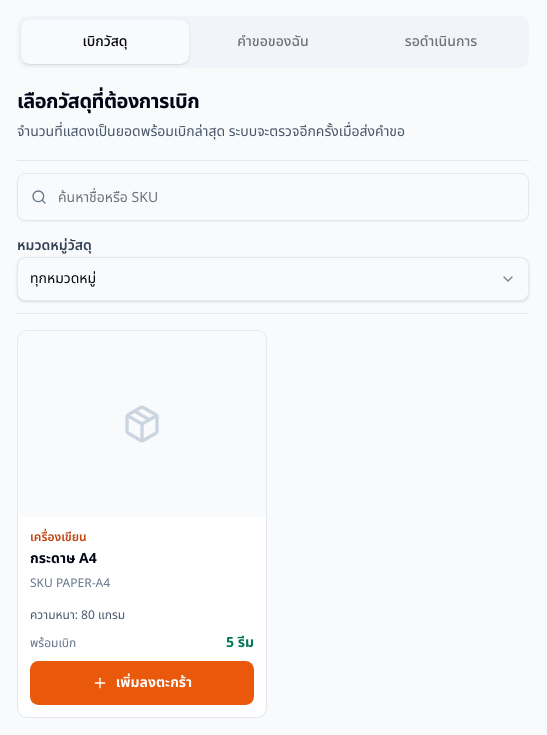
LIFF Stock app orchestration › keeps the newest processor queue result
Check: the heading "กระดาษ A4" is shown, box [30,548,97,569]
Press the mouse on the tab "รอดำเนินการ": (441, 42) [357,20,525,64]
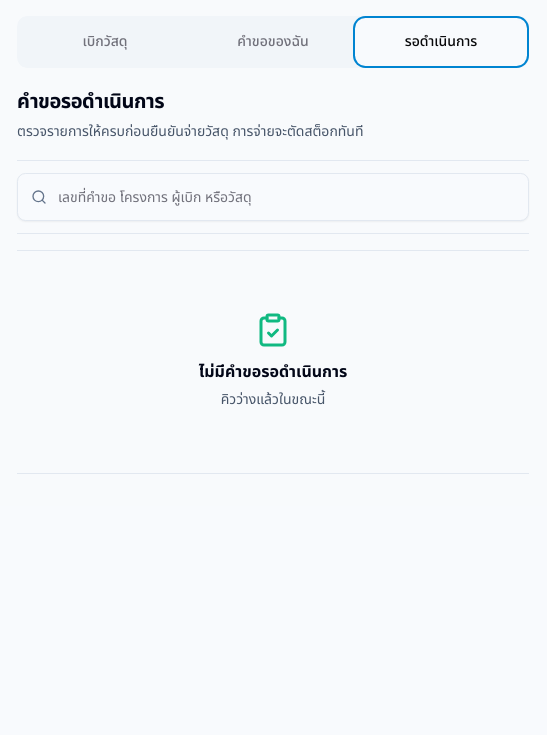
Check: the heading "ไม่มีคำขอรอดำเนินการ" is shown, box [199,360,347,384]
In the search field named "ค้นหาคำขอรอดำเนินการ": (273, 197) [17,173,529,221], type "เก่า"
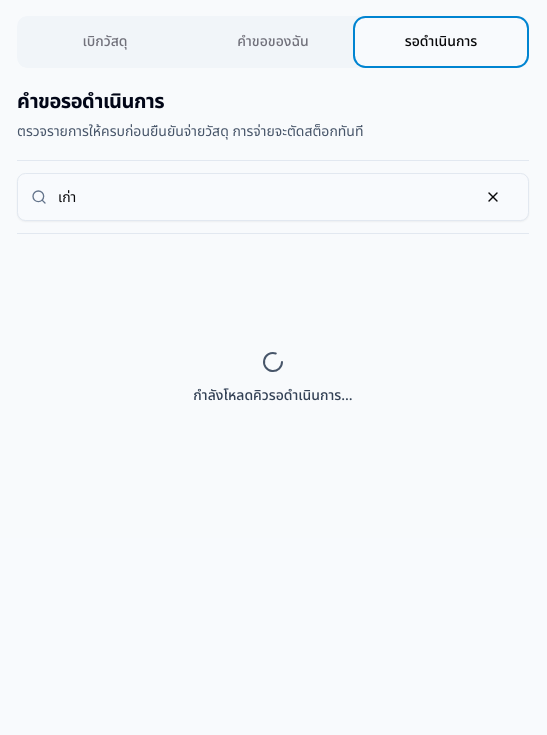
Replace the text in the search field named "ค้นหาคำขอรอดำเนินการ" with "ใหม่": (273, 197) [17,173,529,221]
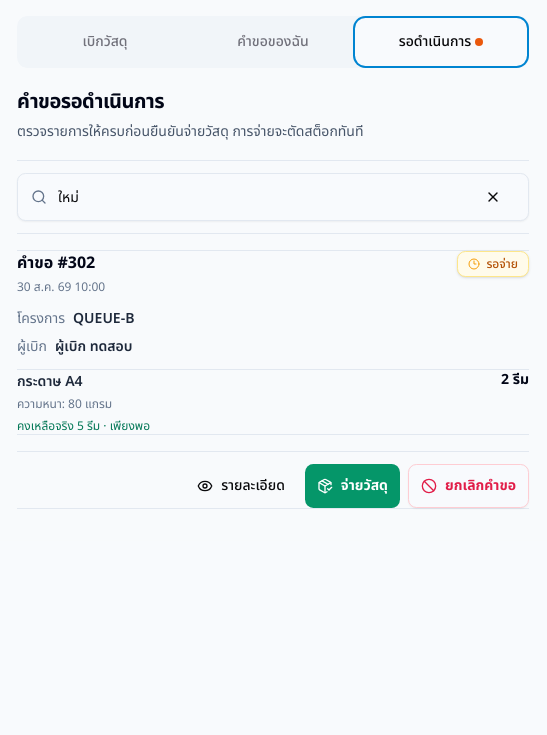
Check: the text "QUEUE-B" is shown, box [73,309,134,329]
